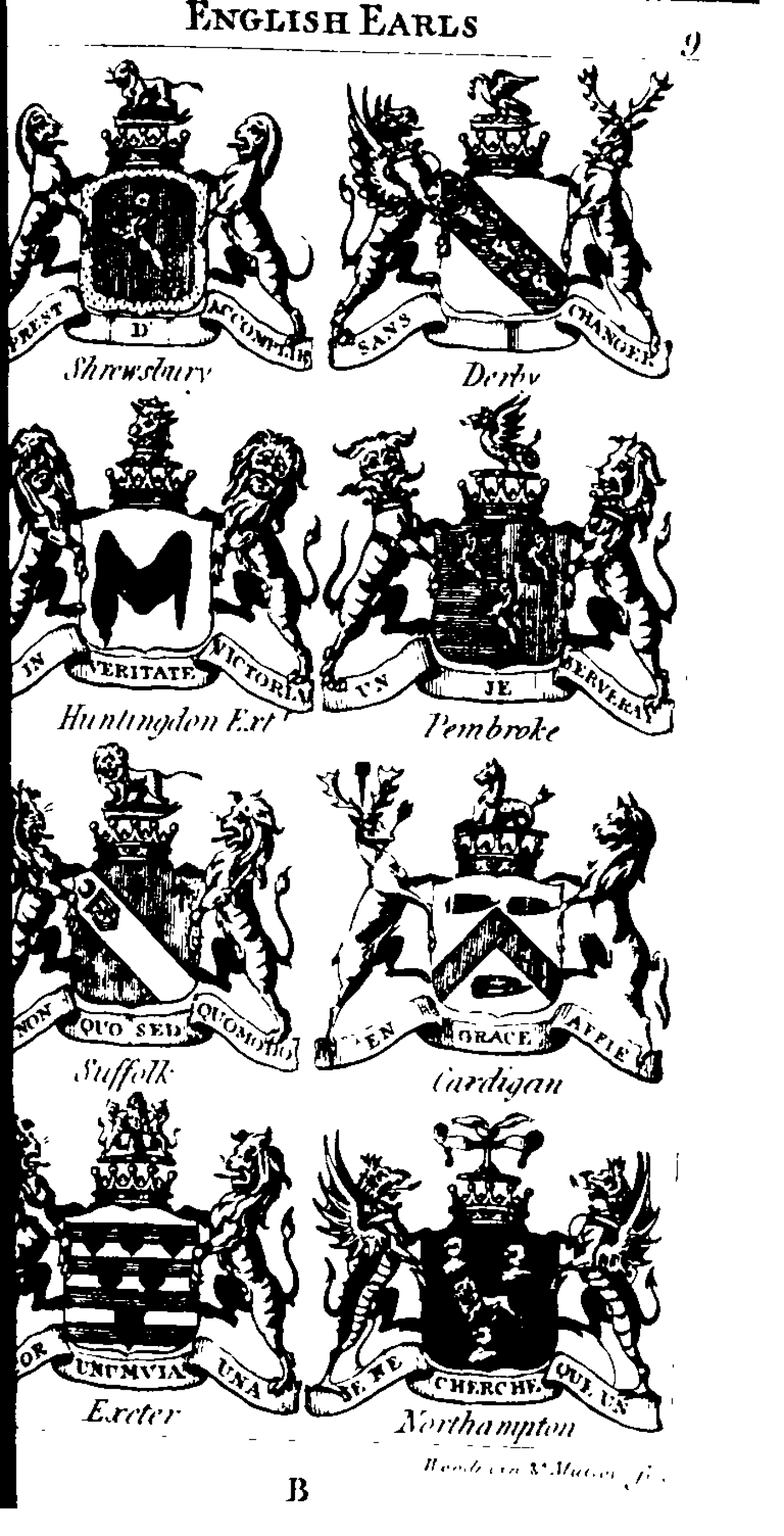coat_of_arms: (323, 54, 715, 409), (323, 409, 712, 759), (314, 755, 679, 1103), (310, 1108, 674, 1450), (2, 46, 323, 403), (1, 405, 320, 738), (8, 743, 310, 1093), (13, 1096, 301, 1443)
